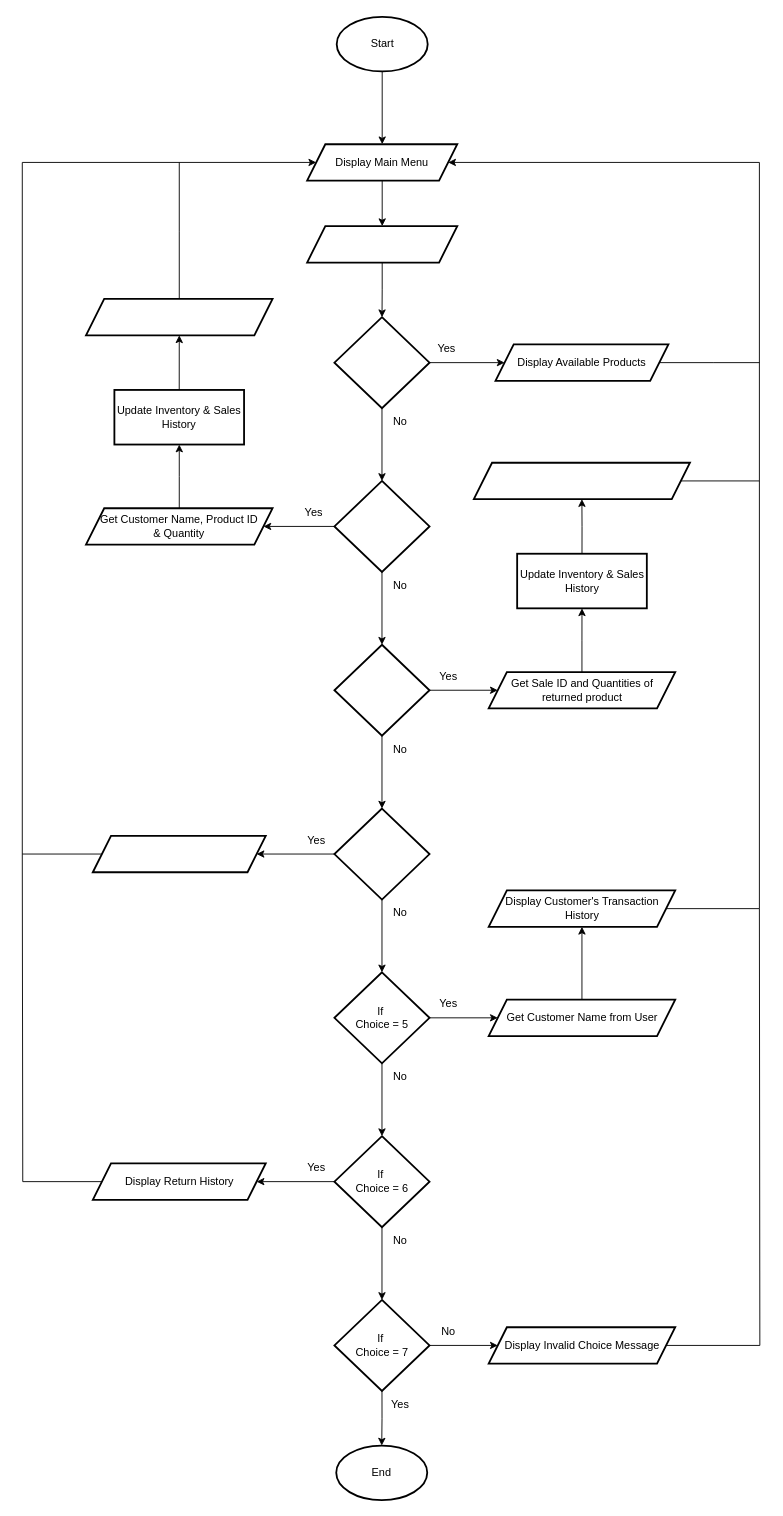
Image size: 783x1516. Some labels were removed from this diagram. Each missing label, with the box of its shape:
Display Returned product Information & Refund Amount: (472, 461, 690, 500)
Display Sale Information: (85, 298, 273, 336)
Display Sales History: (91, 834, 266, 873)
Get User choice: (306, 225, 458, 263)
If Choice = 1: (333, 316, 430, 409)
If Choice = 2: (333, 480, 430, 572)
If Choice = 3: (333, 643, 430, 736)
If Choice = 4: (333, 807, 430, 900)
